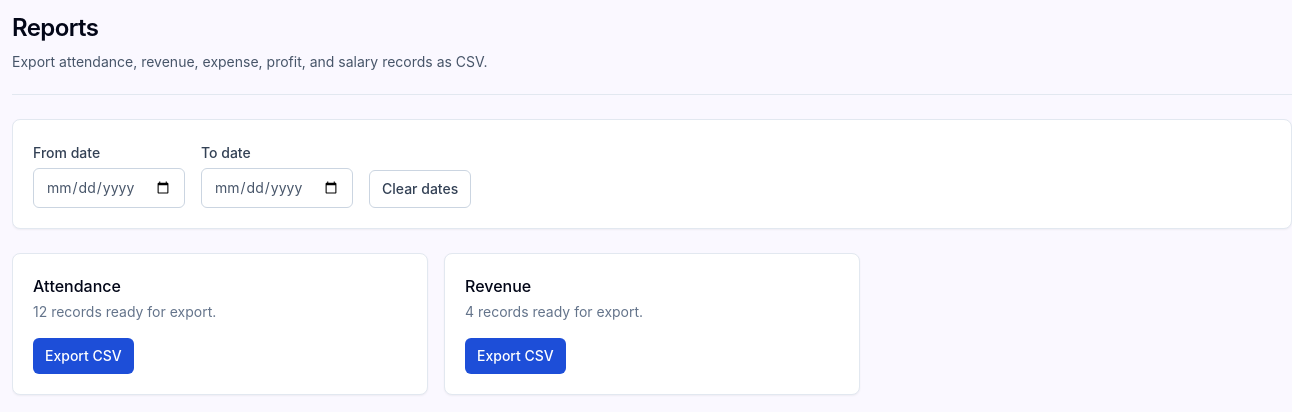
reports CSV controls › clears date filters
Step 1. Type "2026-07-01" into the date field labelled "From date" → (109, 188), box [33,168,185,208]
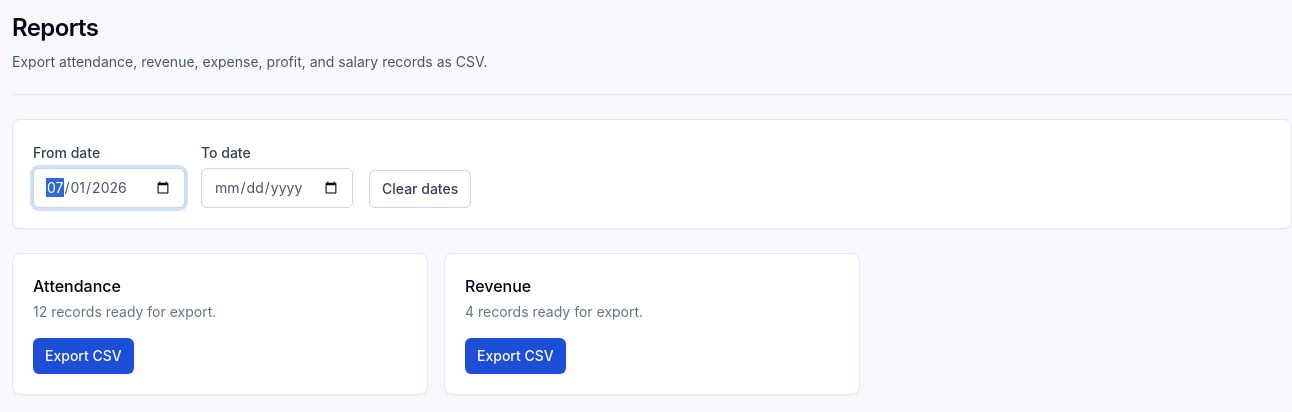
Step 2. Type "2026-07-31" into the date field labelled "To date" → (277, 188), box [201,168,353,208]
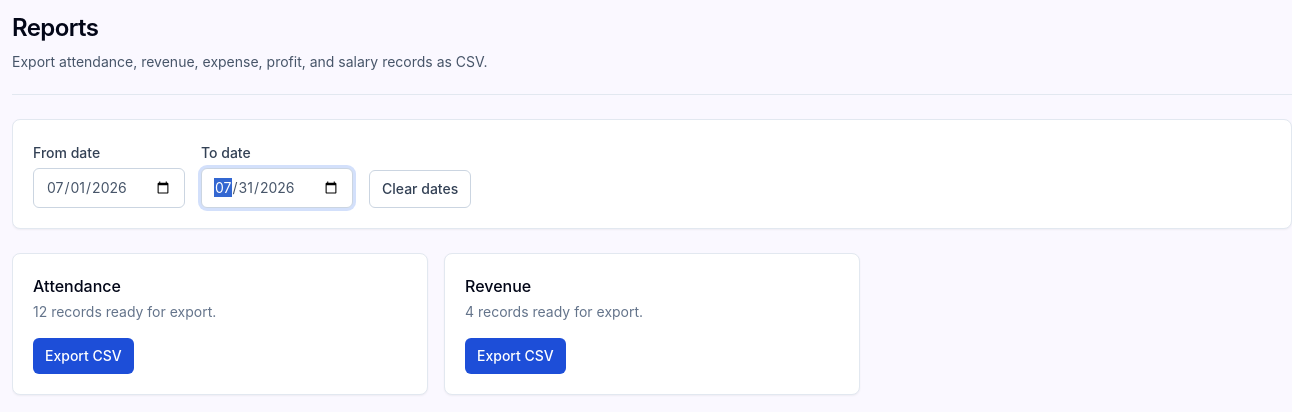
Step 3. Click the button "Clear dates" → click(420, 189), box [369,170,471,208]
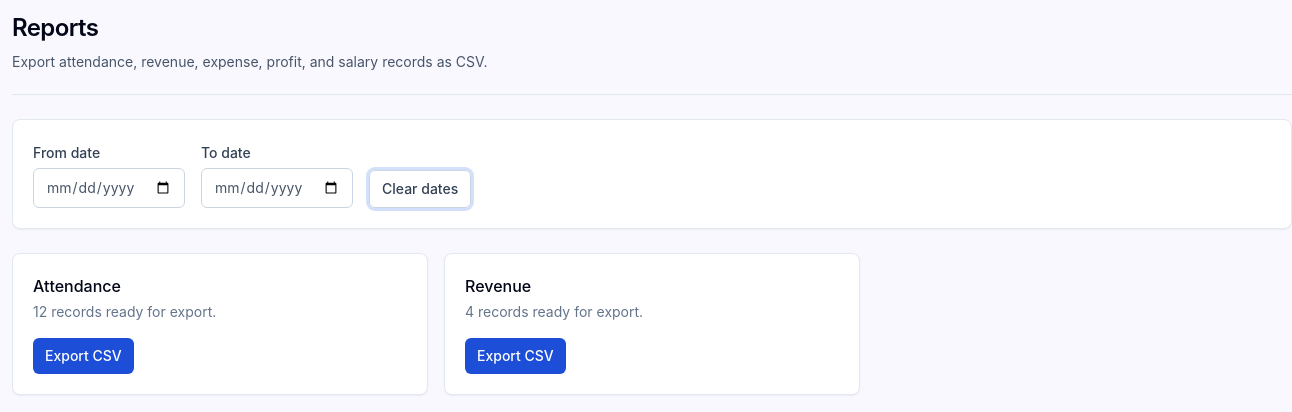
Check: the date field labelled "From date" is empty, box [33,168,185,208]
Check: the date field labelled "To date" is empty, box [201,168,353,208]
